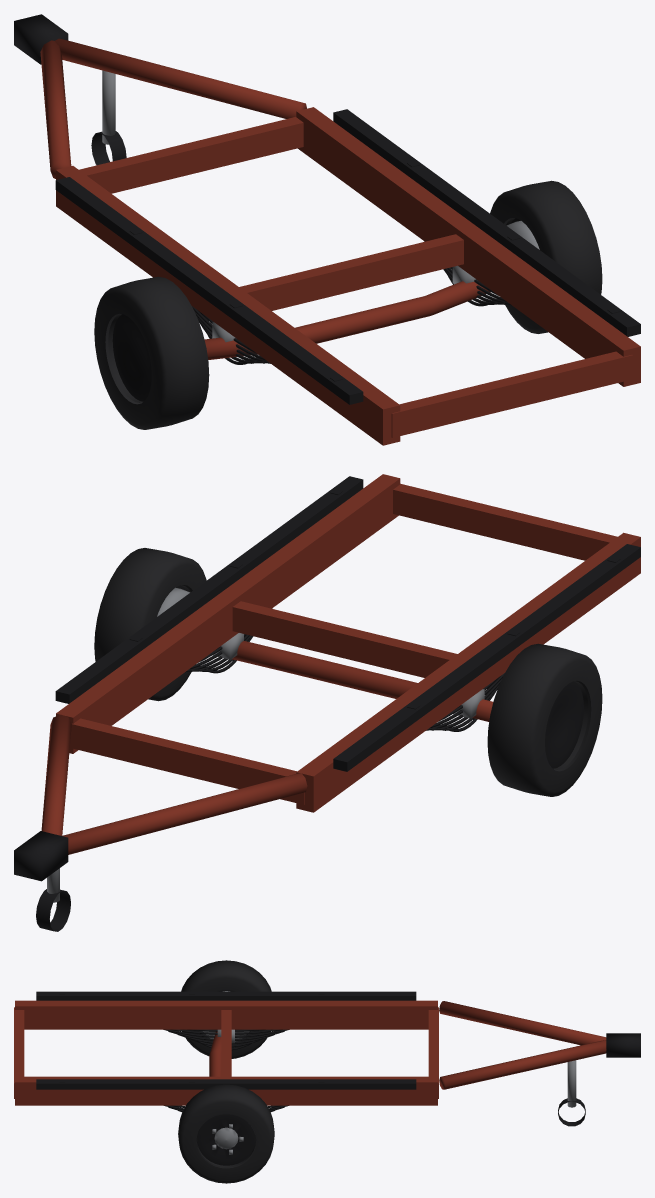
File: harrow_tr25.glb
3 views of the same model, one above another, from view 1: azimuth 30°, elevation 25°; view 2: azimuth 150°, elevation 25°; view 3: azimuth 270°, elevation 25° (orthographic). The views are drawn at different scales.
Parts seen in each view (by area): view 1: rail_R, wheel_B0L, tongue, rail_L, cross_2, mount_rail_L, mount_rail_R, wheel_B0R, cross_0, cross_1, axle_B0, leaf_B0L (+1 smaller); view 2: rail_R, wheel_B0L, tongue, rail_L, mount_rail_L, mount_rail_R, cross_1, wheel_B0R, cross_2, cross_0, axle_B0, leaf_B0L (+1 smaller); view 3: rail_L, rail_R, wheel_B0R, tongue, mount_rail_R, mount_rail_L, wheel_B0L, leaf_B0L, cross_0, cross_2, cross_1, axle_B0.
Part boxes in pixels (x1,y1,x2,y2): rail_R: [296, 107, 640, 386]; wheel_B0L: [94, 276, 209, 429]; tongue: [14, 14, 306, 178]; rail_L: [56, 166, 400, 445]; cross_2: [391, 351, 632, 437]; mount_rail_L: [55, 177, 363, 404]; mount_rail_R: [333, 109, 640, 336]; wheel_B0R: [490, 180, 602, 333]; cross_0: [79, 117, 303, 193]; cross_1: [239, 234, 463, 310]; axle_B0: [204, 281, 490, 359]; leaf_B0L: [192, 306, 270, 364]; rail_R: [56, 474, 400, 753]; wheel_B0L: [487, 643, 602, 796]; tongue: [14, 714, 307, 931]; rail_L: [296, 532, 640, 812]; mount_rail_L: [333, 544, 640, 771]; mount_rail_R: [55, 476, 363, 703]; cross_1: [232, 601, 457, 677]; wheel_B0R: [94, 548, 206, 701]; cross_2: [393, 483, 617, 560]; cross_0: [69, 718, 304, 804]; axle_B0: [232, 641, 493, 721]; leaf_B0L: [426, 673, 504, 731]; rail_L: [15, 1000, 437, 1029]; rail_R: [15, 1076, 437, 1105]; wheel_B0R: [178, 1084, 274, 1183]; tongue: [439, 1001, 640, 1126]; mount_rail_R: [36, 1079, 416, 1089]; mount_rail_L: [36, 991, 416, 1000]; wheel_B0L: [181, 960, 271, 1058]; leaf_B0L: [163, 1029, 289, 1050]; cross_0: [428, 1007, 438, 1098]; cross_2: [14, 1007, 24, 1098]; cross_1: [221, 1010, 231, 1076]; axle_B0: [209, 1031, 221, 1076].
Size of the model in its own units: 1.9 by 0.56 by 3.63.
